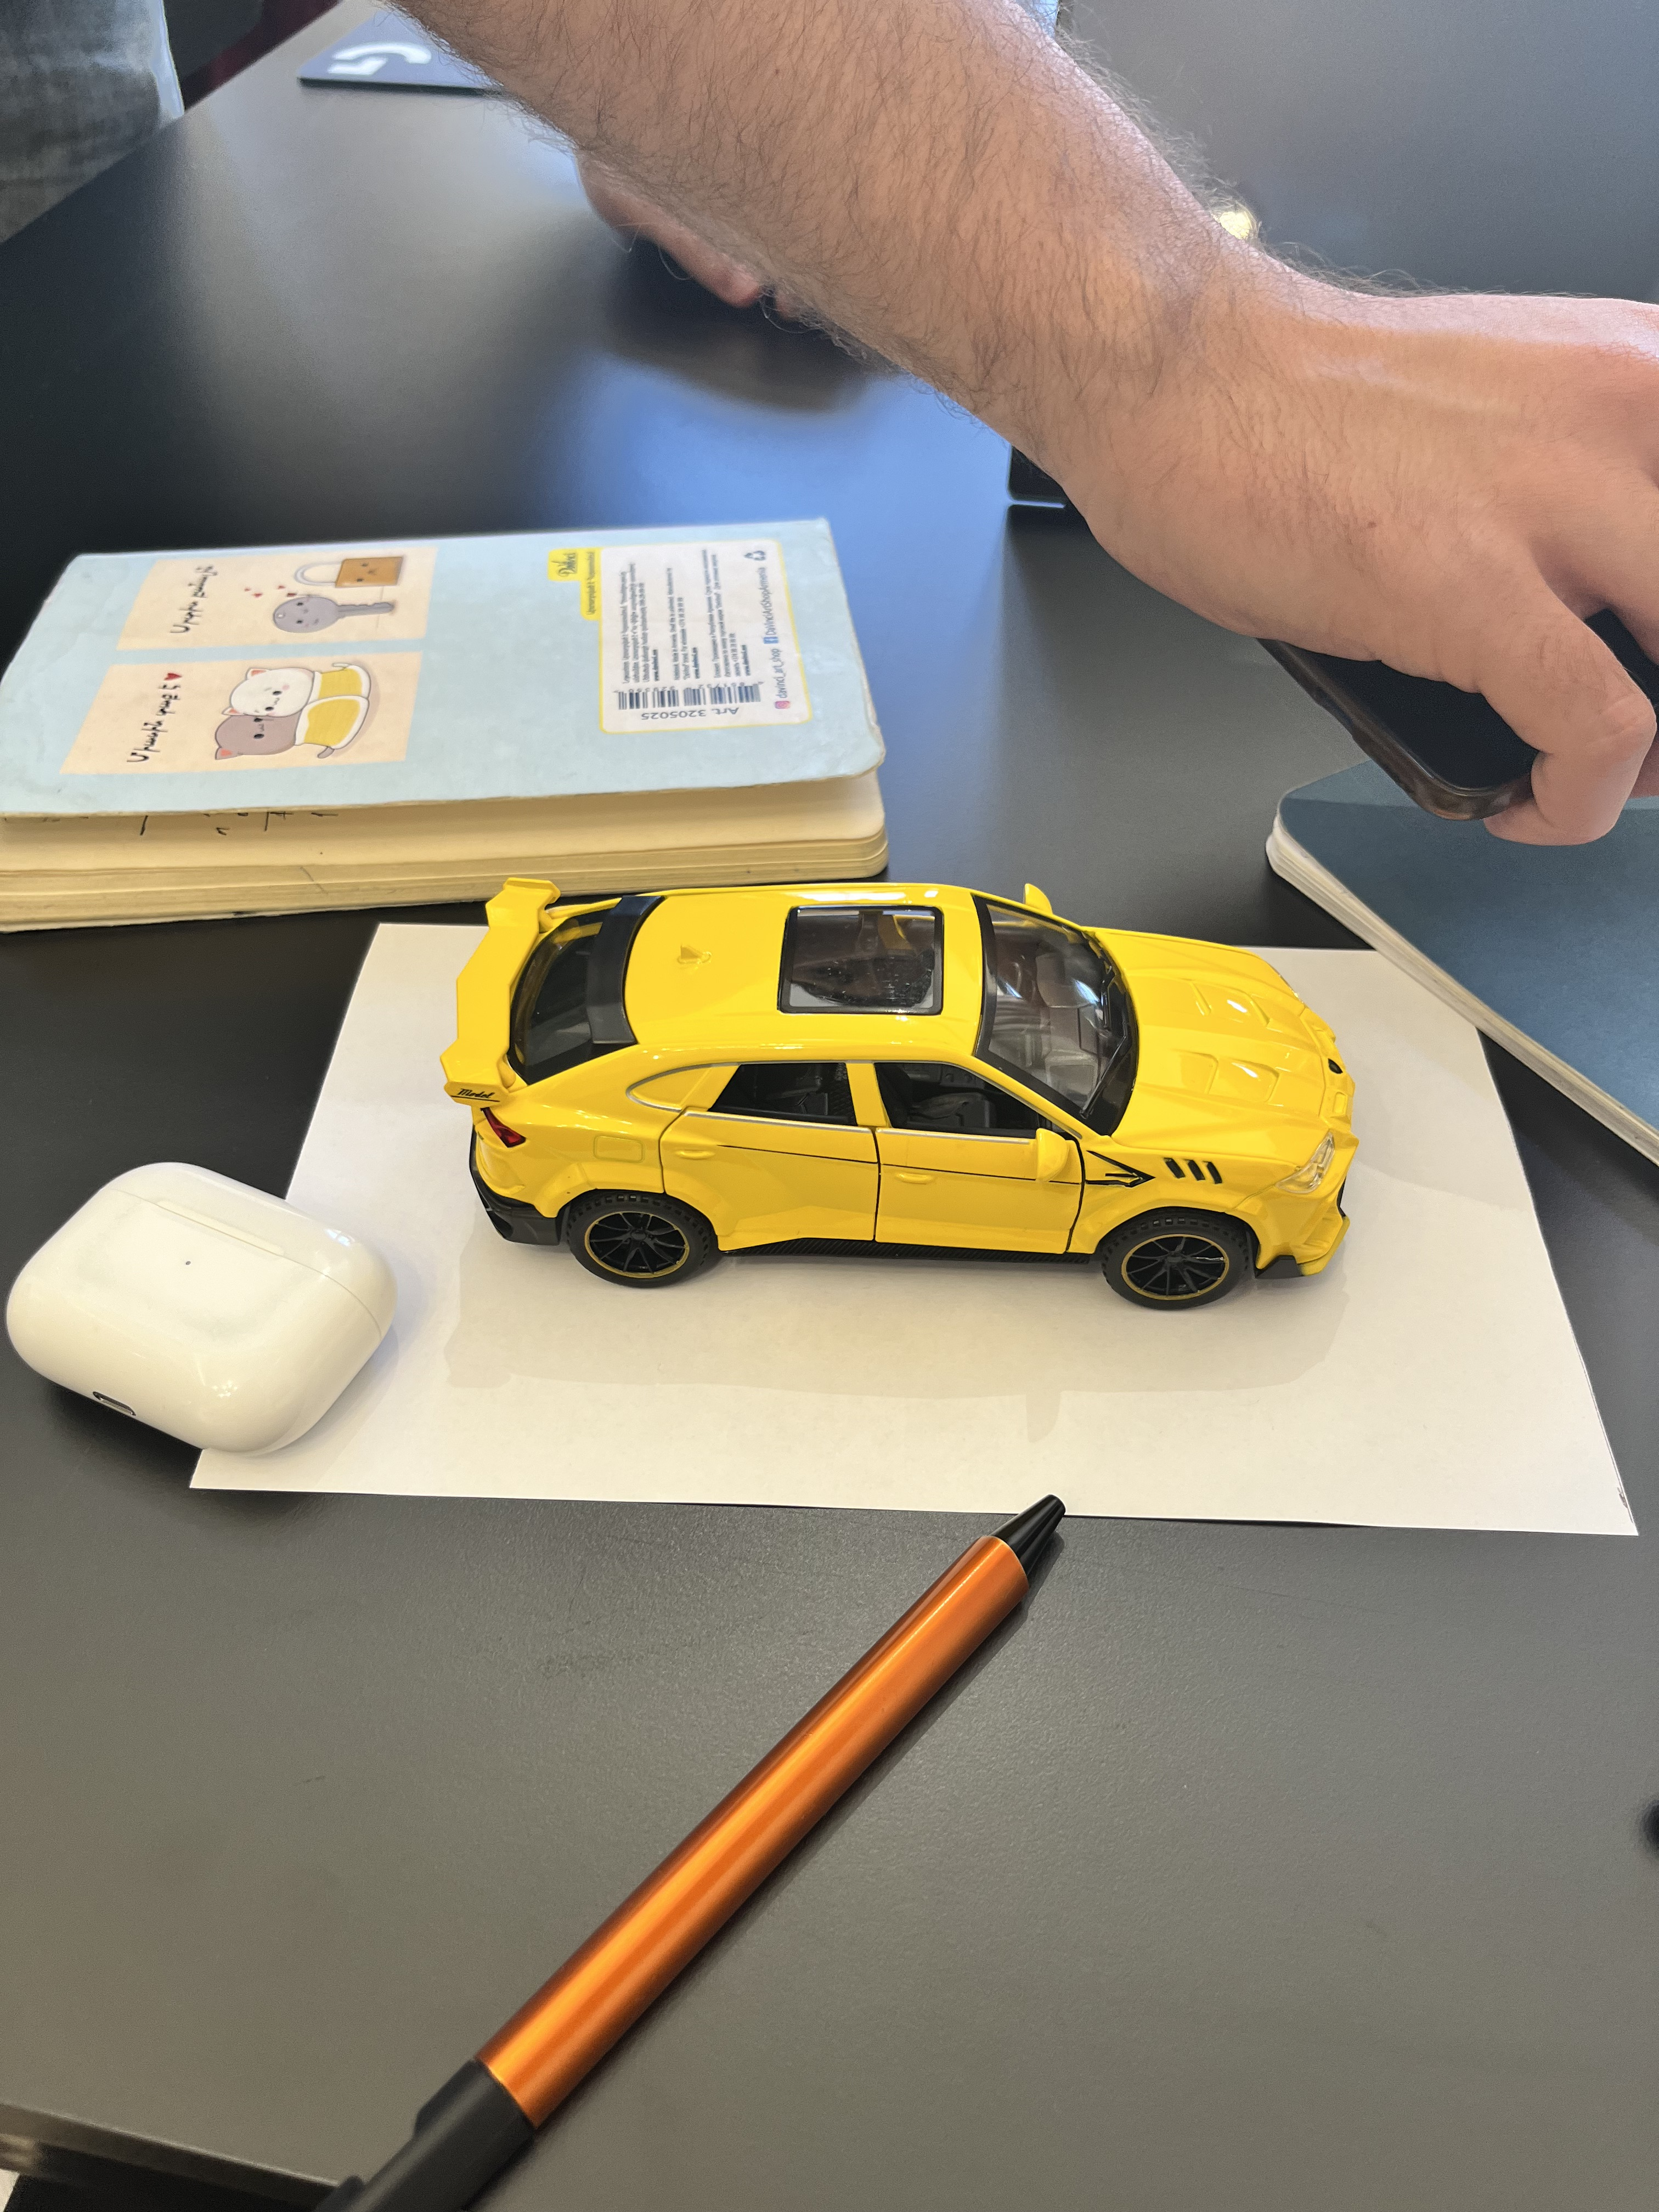lambo: (436, 874, 1361, 1310)
